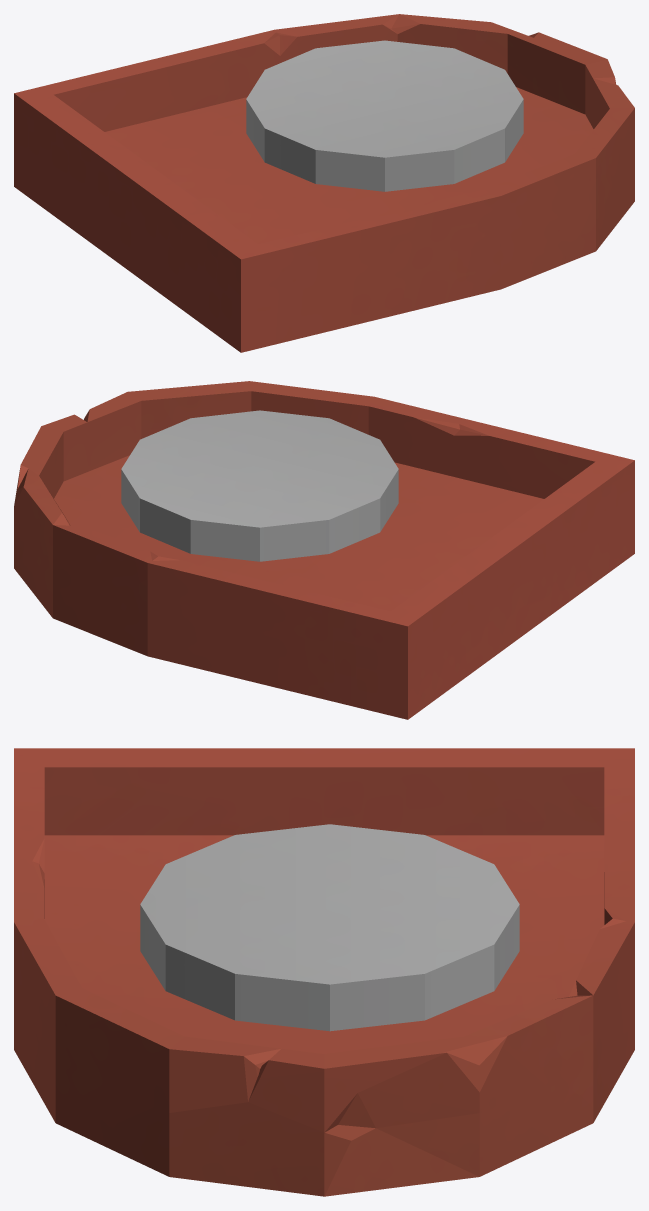
File: Zhuanpan.fbx
The picture shows the model from 3 angles, top to bottom: view 1: azimuth 30°, elevation 25°; view 2: azimuth 150°, elevation 25°; view 3: azimuth 270°, elevation 25°; orthographic projection. The views are drawn at different scales.
Visible parts, largest first — view 1: 圆环.002; view 2: 圆环.002; view 3: 圆环.002.
Boxes of the visible parts, x1,y1,x2,y2 form: 圆环.002: (14,14,634,352); 圆环.002: (14,381,634,719); 圆环.002: (14,748,634,1196).
Size of the model in its own units: 37.33 by 8.33 by 30.57.
